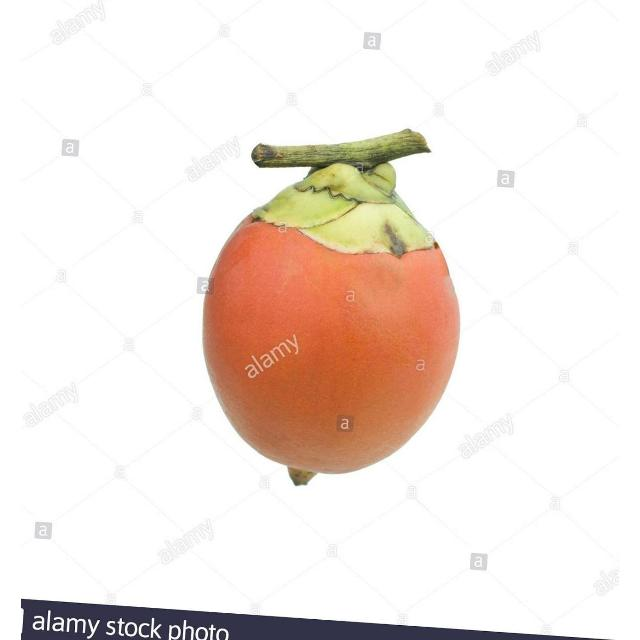good: (203, 129, 460, 475)
